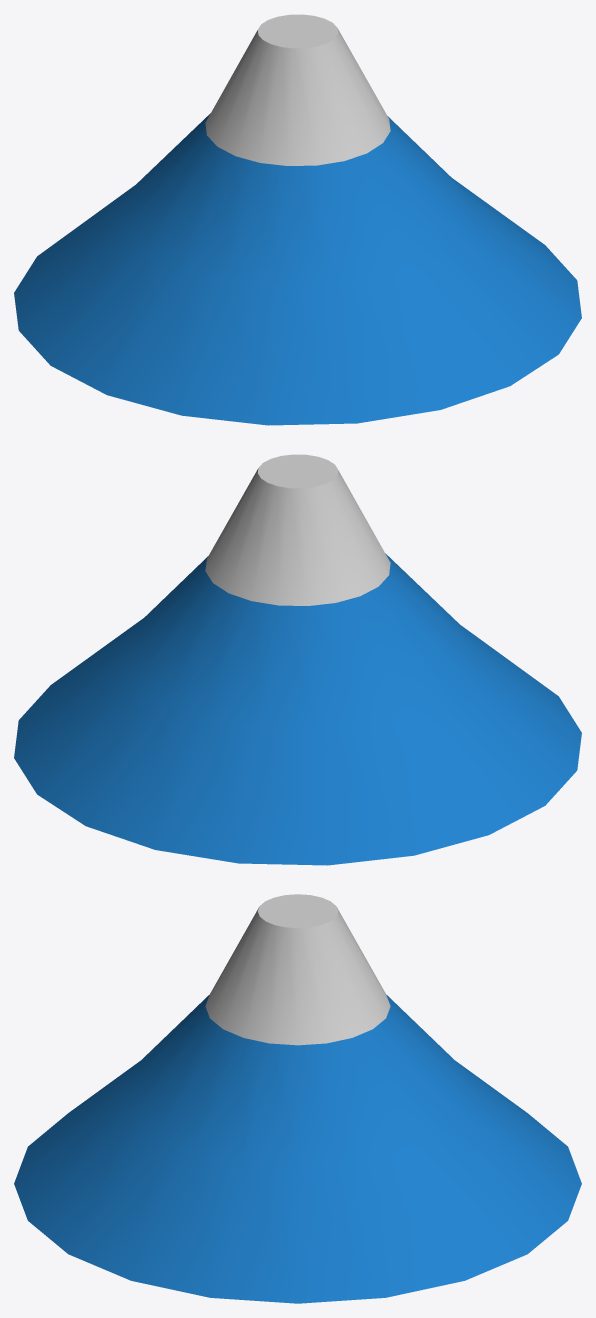
File: fuji.dae
The picture shows the model from 3 angles, top to bottom: view 1: azimuth 30°, elevation 25°; view 2: azimuth 150°, elevation 25°; view 3: azimuth 270°, elevation 25°; orthographic projection.
Visible parts, largest first — view 1: obj1; view 2: obj1; view 3: obj1.
Boxes of the visible parts, x1,y1,x2,y2 form: obj1: (14,14,581,425); obj1: (14,454,581,865); obj1: (14,894,581,1303).
Size of the model in its own units: 0.2981 by 0.1578 by 0.2981.
